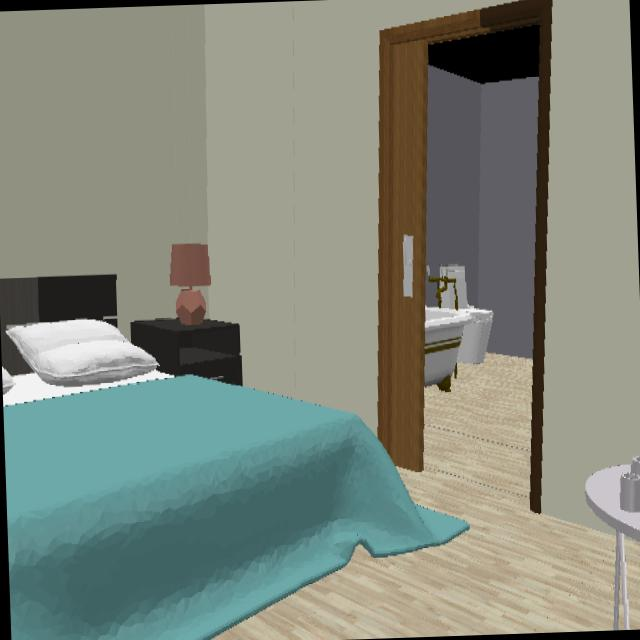bathtube: (424, 306, 493, 393)
bed: (0, 275, 467, 640)
lamp: (170, 244, 210, 325)
nighttable: (130, 319, 242, 385)
pillow: (7, 321, 157, 385)
table: (585, 464, 640, 629)
toilet: (426, 265, 492, 364)
